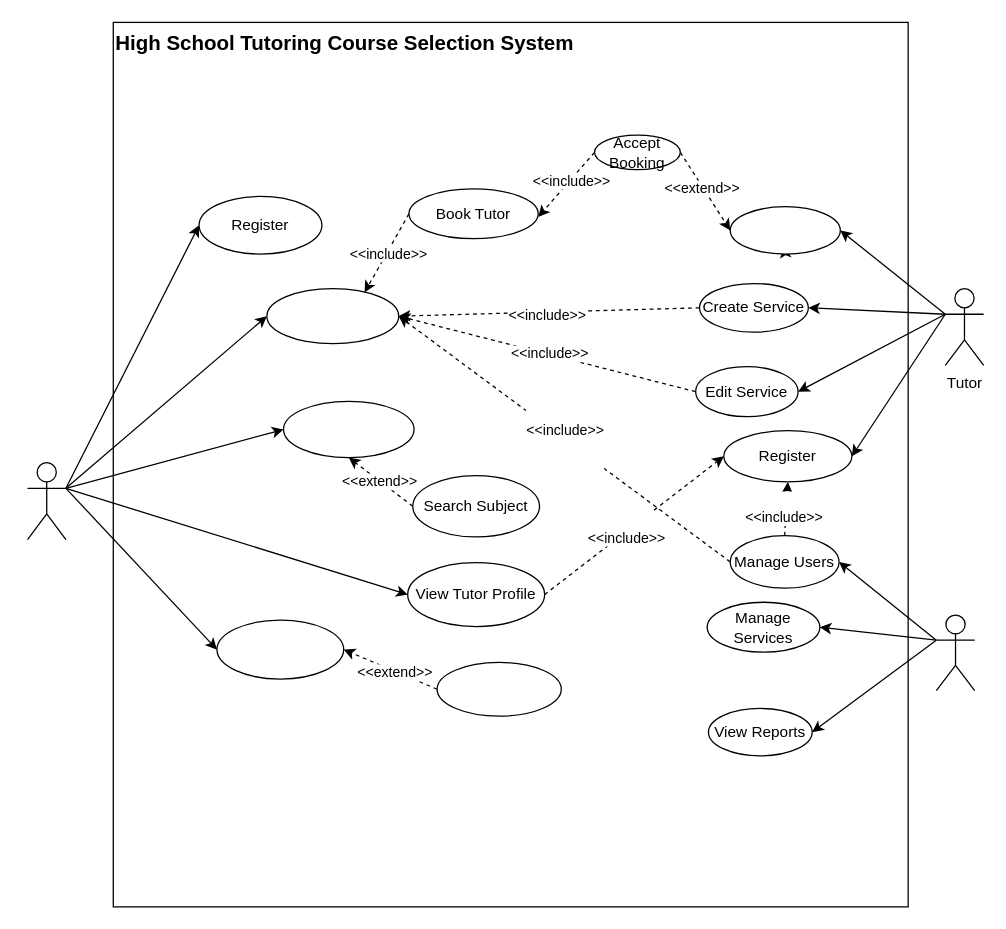
Some shapes in this 1006 by 929 pixel diagram are drawn without their labels. The centre of each missing label's shape, as x and y in pixels:
"Admin" belongs at (x=955, y=652).
"Browse Tutors" belongs at (x=348, y=429).
"Cancel Booking" belongs at (x=498, y=688).
"Login" belongs at (x=332, y=315).
"student" belongs at (x=46, y=500).
"View Bookings" belongs at (x=784, y=229).
"View My Bookings" belongs at (x=280, y=649).
